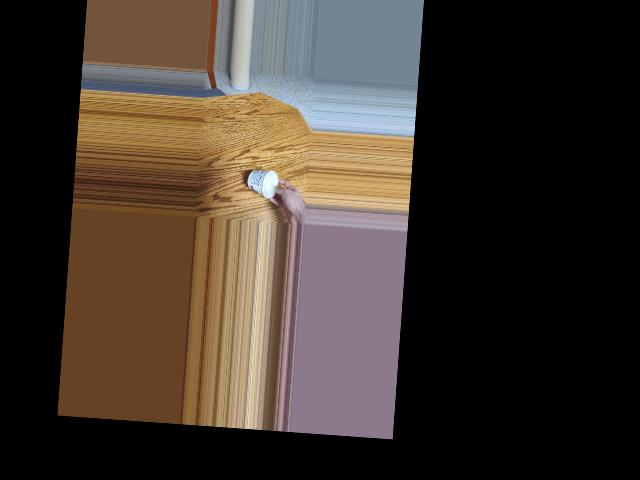cotage: (248, 166, 280, 200)
